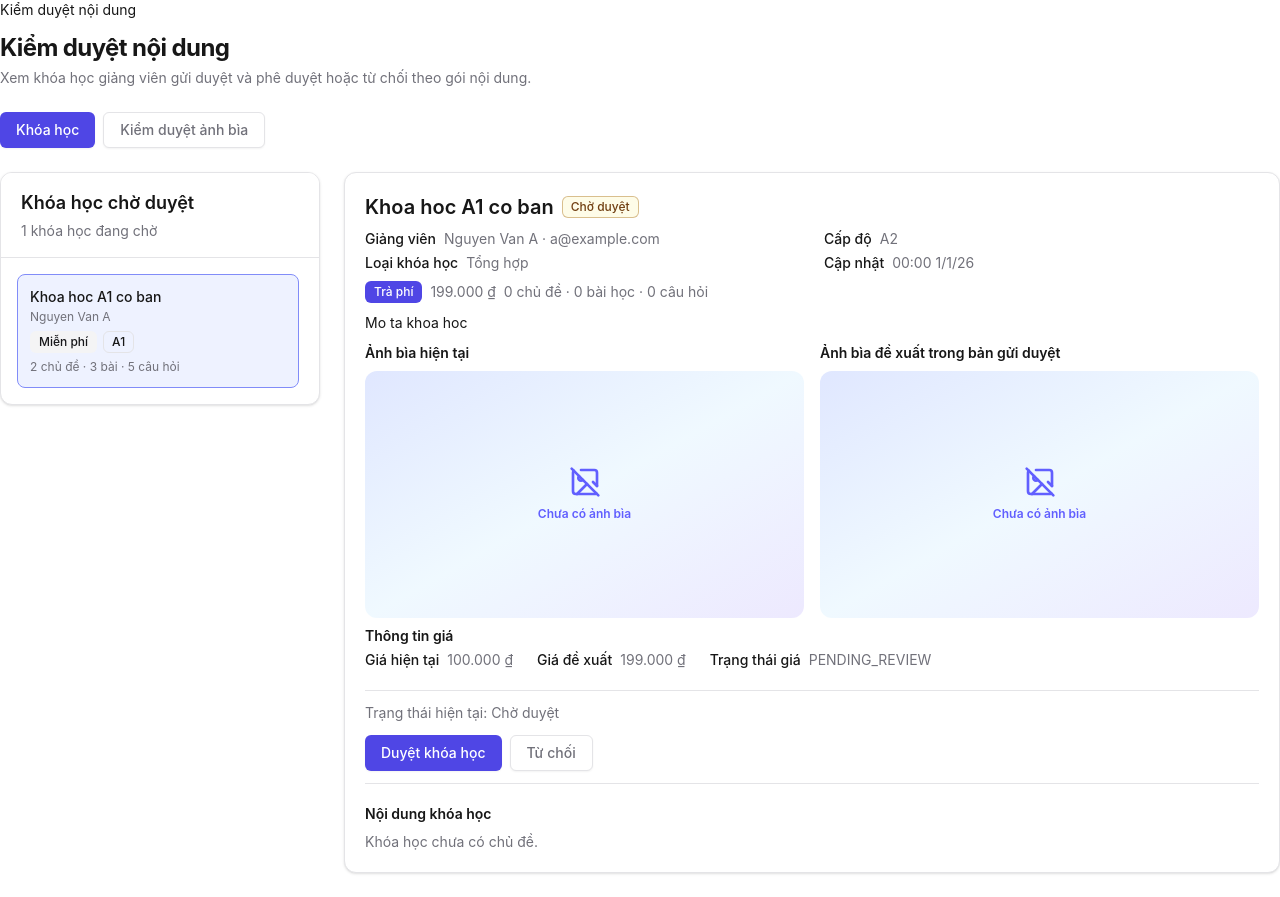
Test: AdminContentReviewPage shadcn sync › opens an AlertDialog naming the course for approve and confirms via approve API without window.confirm
expect the heading "Khoa hoc A1 co ban" is shown: met, box [365,193,554,221]
Click the button "Duyệt khóa học".
click(433, 753)  # box [365,735,502,771]
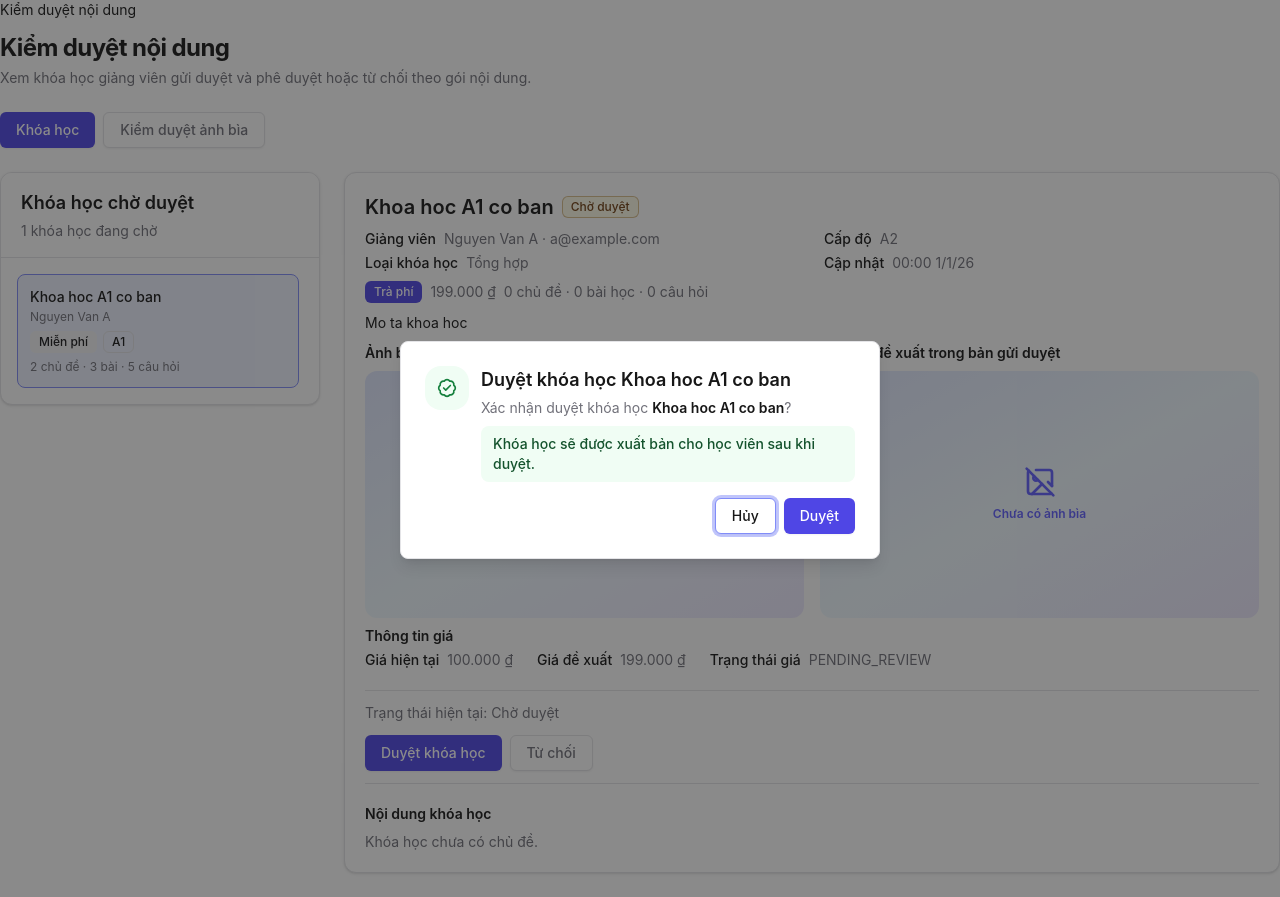
expect the text "Khoa hoc A1 co ban" is shown: met, box [652,399,784,416]
Click the button "Duyệt".
click(819, 516)  # box [784,498,855,534]
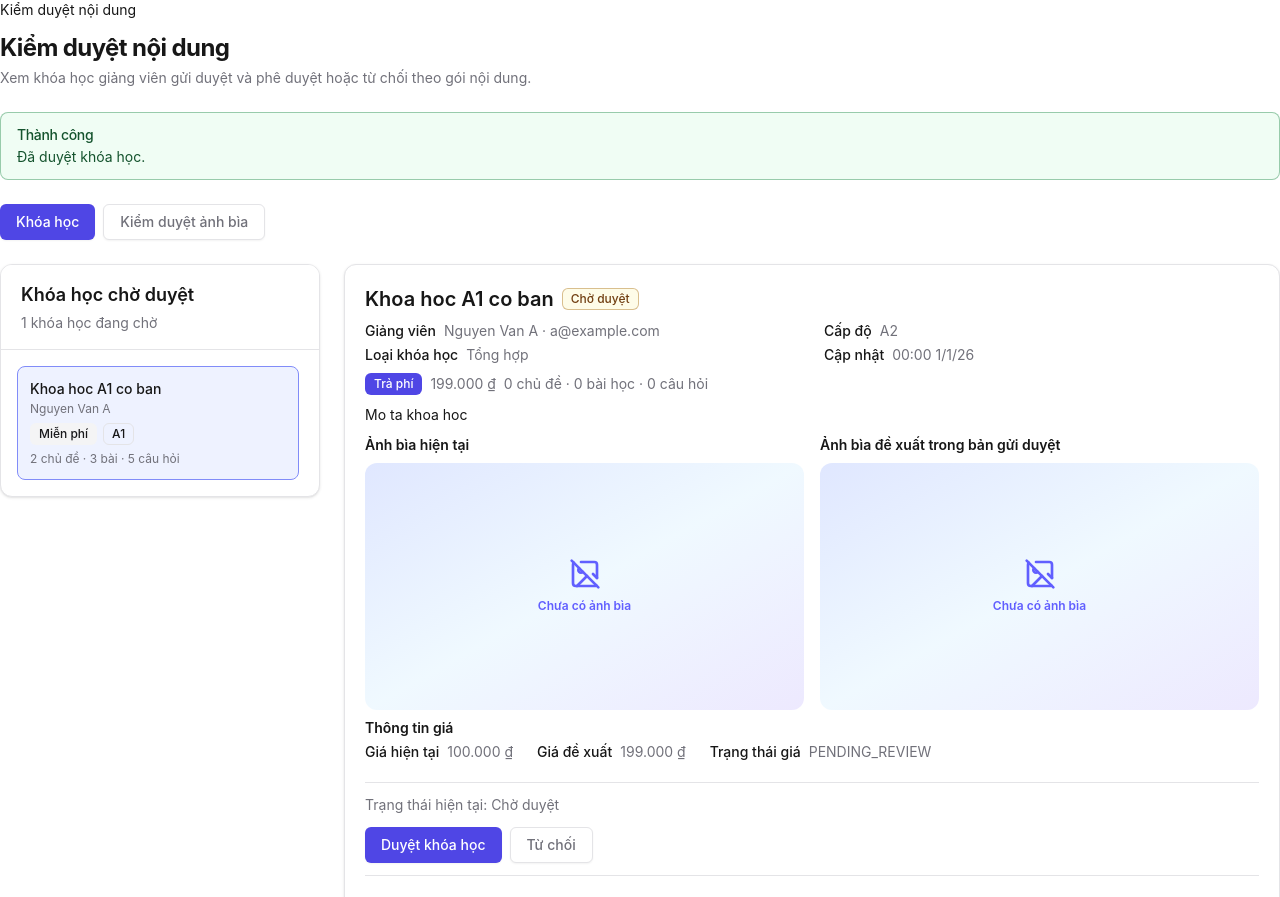
expect the dialog is gone: met
